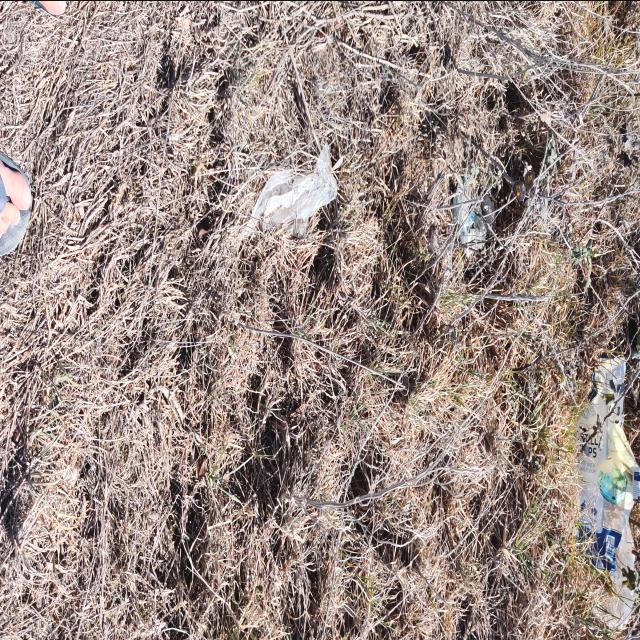Plastic film: (574, 352, 640, 628), (242, 142, 337, 240), (452, 179, 497, 257)
